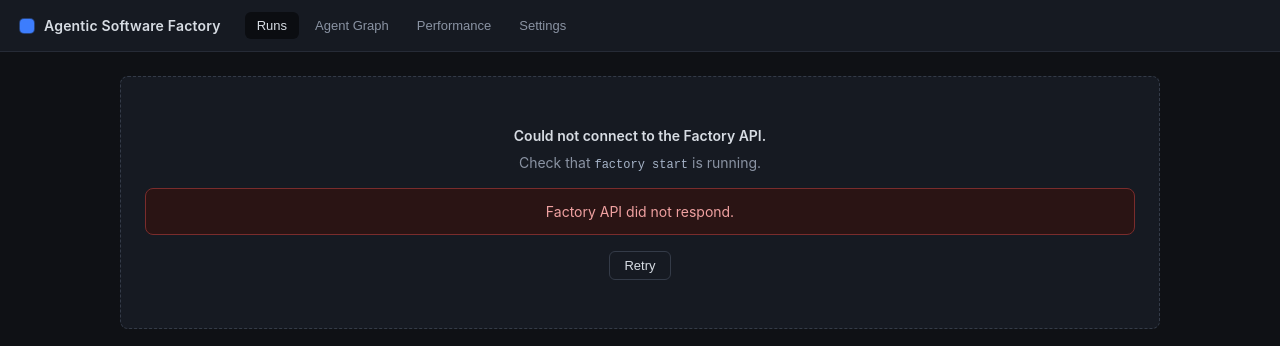
Runs loading state › stops loading after failure and retries through loadRuns
The width and height of the screenshot is (1280, 346).
Expected: the text "Could not connect to the Factory API." is shown, x1=514 y1=127 x2=766 y2=144
Click the button "Retry" at (640, 266), box x1=610 y1=251 x2=671 y2=280
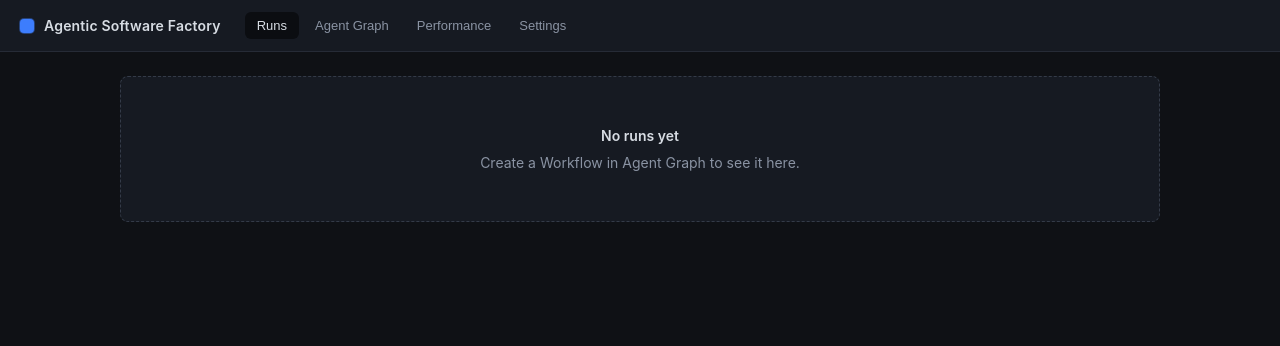
Expected: the text "No runs yet" is shown, x1=601 y1=127 x2=679 y2=144
